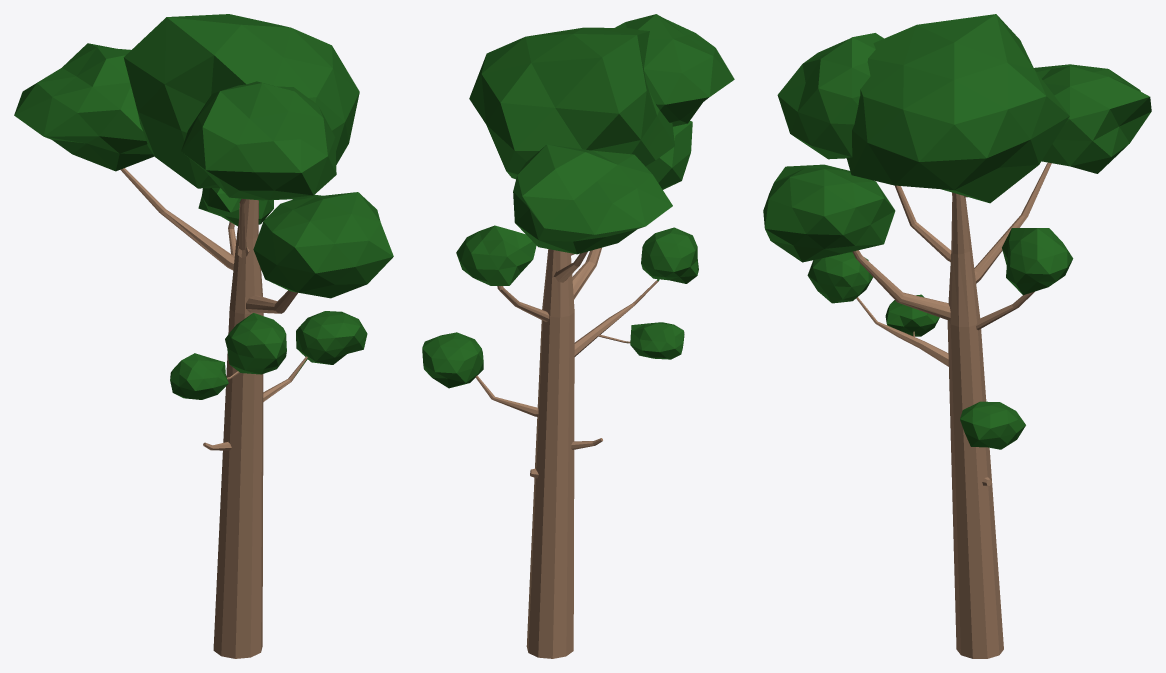
File: Arbol4.fbx
3 views of the same model, side by side, from view 1: azimuth 30°, elevation 25°; view 2: azimuth 150°, elevation 25°; view 3: azimuth 270°, elevation 25° (orthographic). The views are drawn at different scales.
Parts seen in each view (by area): view 1: ThirdTree; view 2: ThirdTree; view 3: ThirdTree.
Boxes of the visible parts, x1=… form: ThirdTree: x1=14, y1=14, x2=393, y2=658; ThirdTree: x1=422, y1=14, x2=734, y2=658; ThirdTree: x1=763, y1=14, x2=1151, y2=658.
Bounding box in the file's own units: 2883 × 6069 × 3524.
